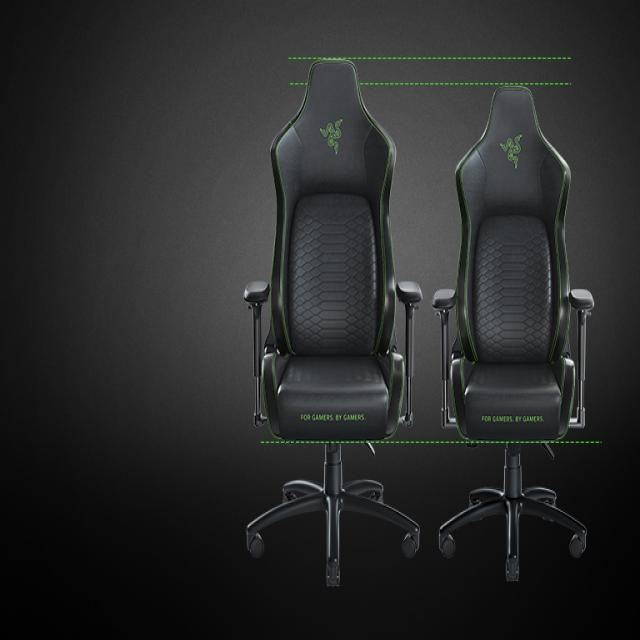chair: (204, 24, 431, 598), (430, 23, 640, 625)
